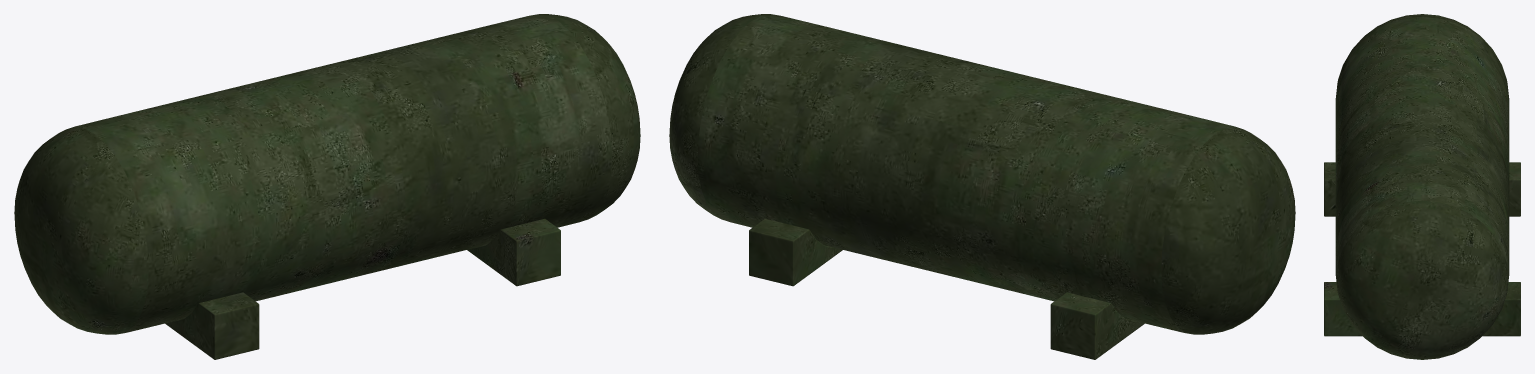
The model's file is FuelTank_v01.glb.
The picture shows the model from 3 angles, left to right: view 1: azimuth 30°, elevation 25°; view 2: azimuth 150°, elevation 25°; view 3: azimuth 270°, elevation 25°; orthographic projection. The views are drawn at different scales.
Visible parts, largest first — view 1: SM_FuelTank; view 2: SM_FuelTank; view 3: SM_FuelTank.
Boxes of the visible parts, <box> form: SM_FuelTank: <box>14,14,640,359</box>; SM_FuelTank: <box>669,14,1295,359</box>; SM_FuelTank: <box>1324,14,1520,359</box>.
Size of the model in its own units: 9.14 by 3.01 by 3.37.
Materials: 1 (1 with a texture image).
